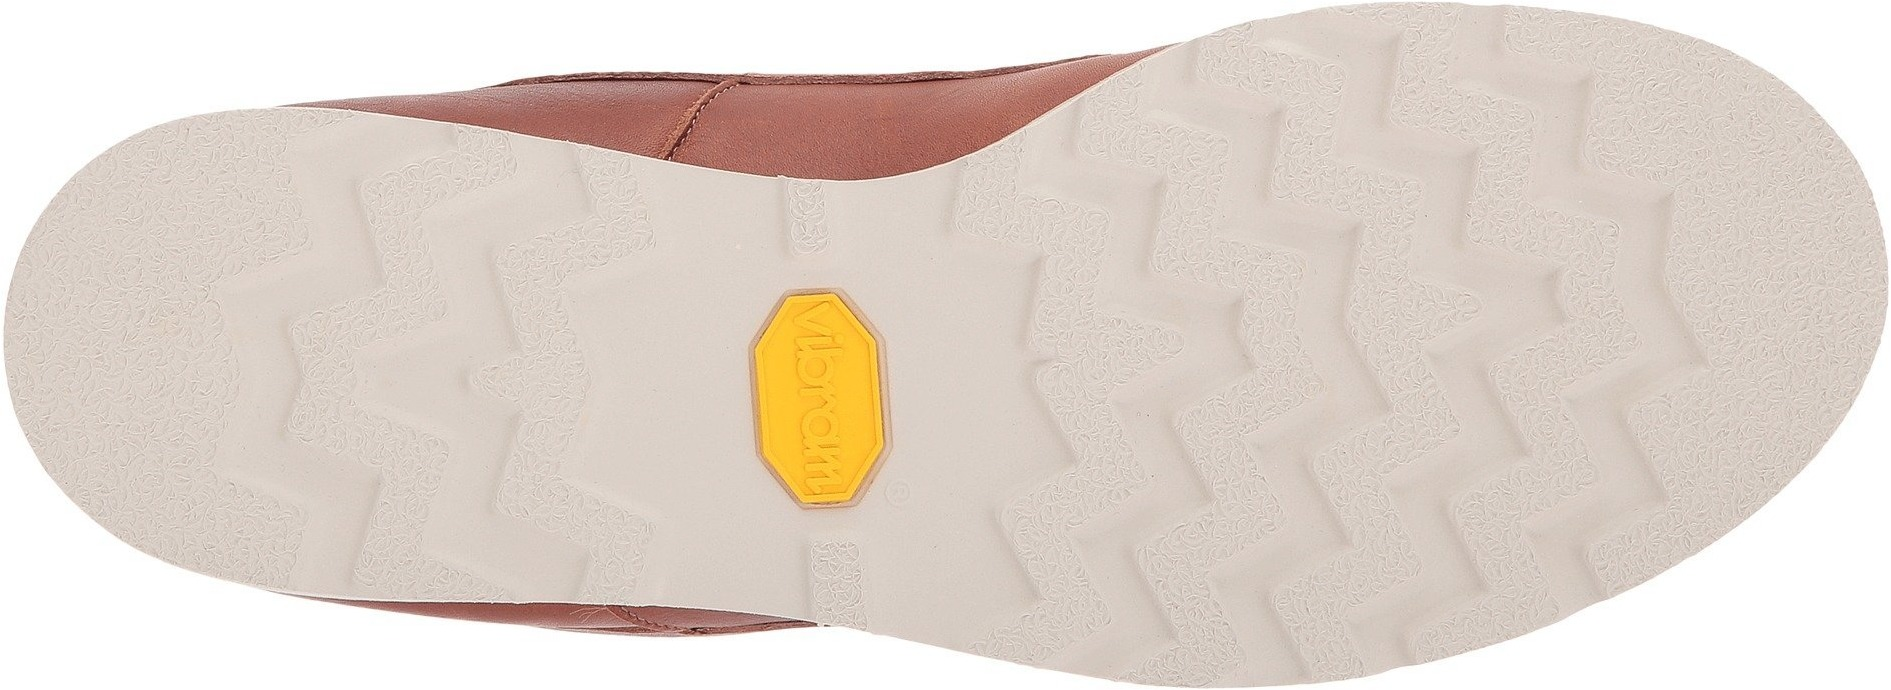chevron: (1341, 19, 1679, 318), (192, 185, 505, 492), (974, 164, 1321, 419), (1336, 332, 1628, 613), (1008, 427, 1276, 667)
other: (33, 267, 181, 407)
text: (781, 388, 866, 473), (781, 300, 845, 374)
